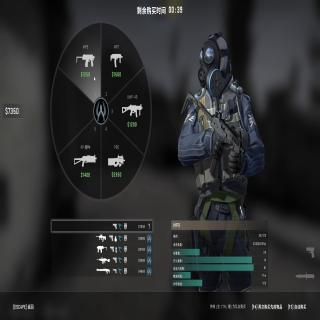CT-Body: (178, 32, 264, 218)
CT-Head: (198, 33, 229, 86)
